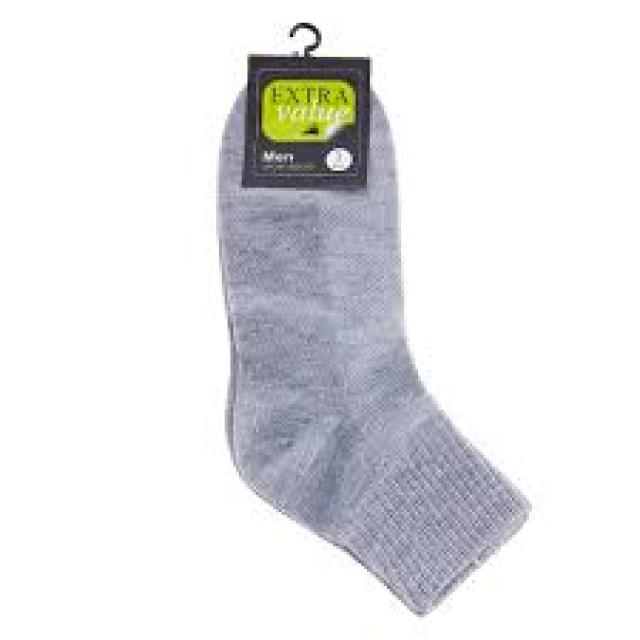sock: (213, 40, 532, 617)
